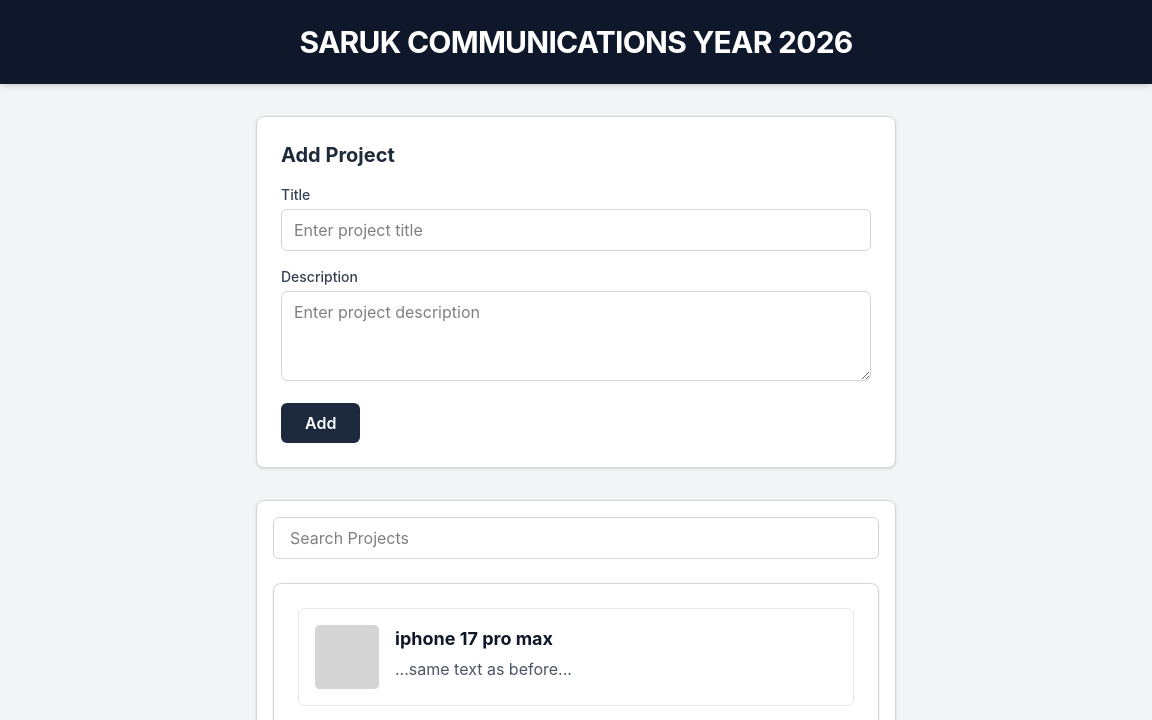
Test: Personal Project Showcase App › allows adding a new project
Type "New Portfolio Website" into the field labelled "Title". click: (576, 230)
box: [281, 209, 871, 251]
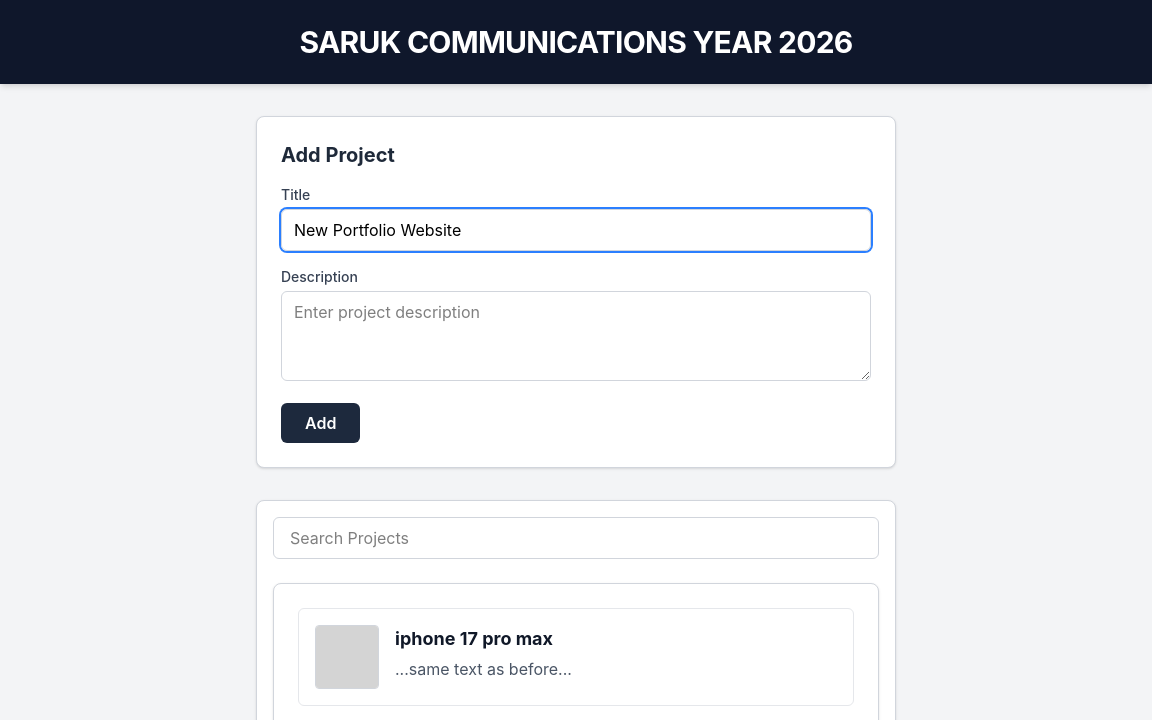
Type "Built with React and Tailwind." into the text box labelled "Description". click: (576, 336)
box: [281, 291, 871, 381]
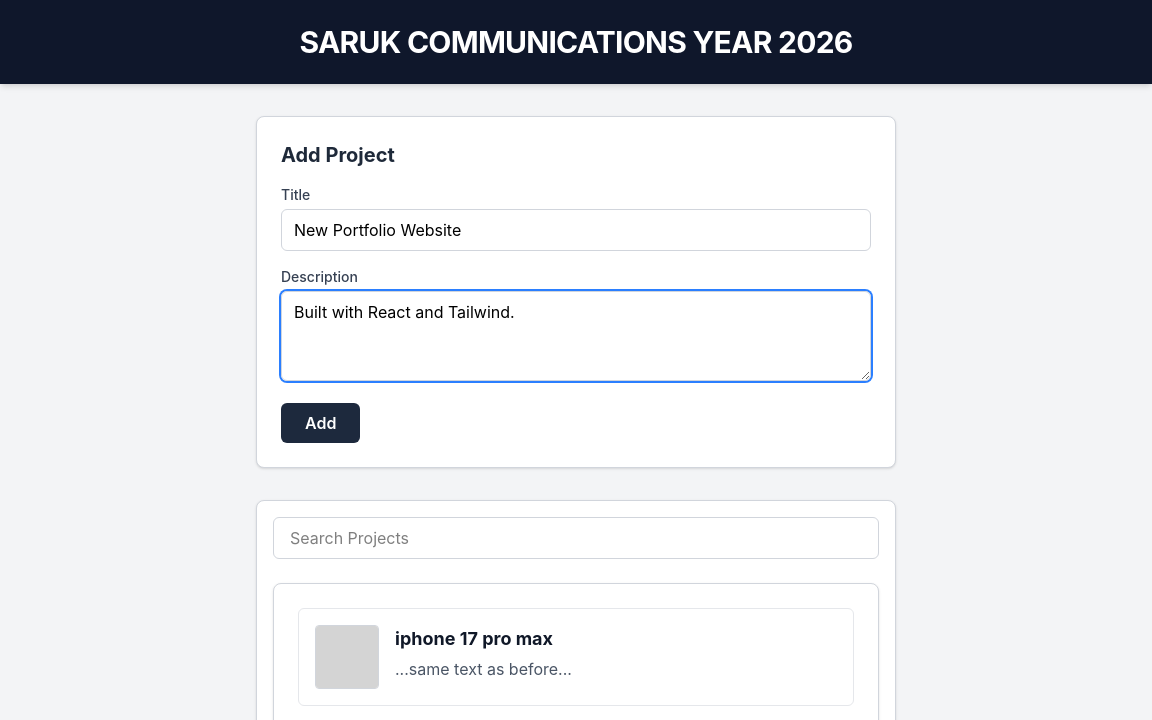
Click the button "Add". click: click(321, 423)
box: [281, 403, 360, 443]
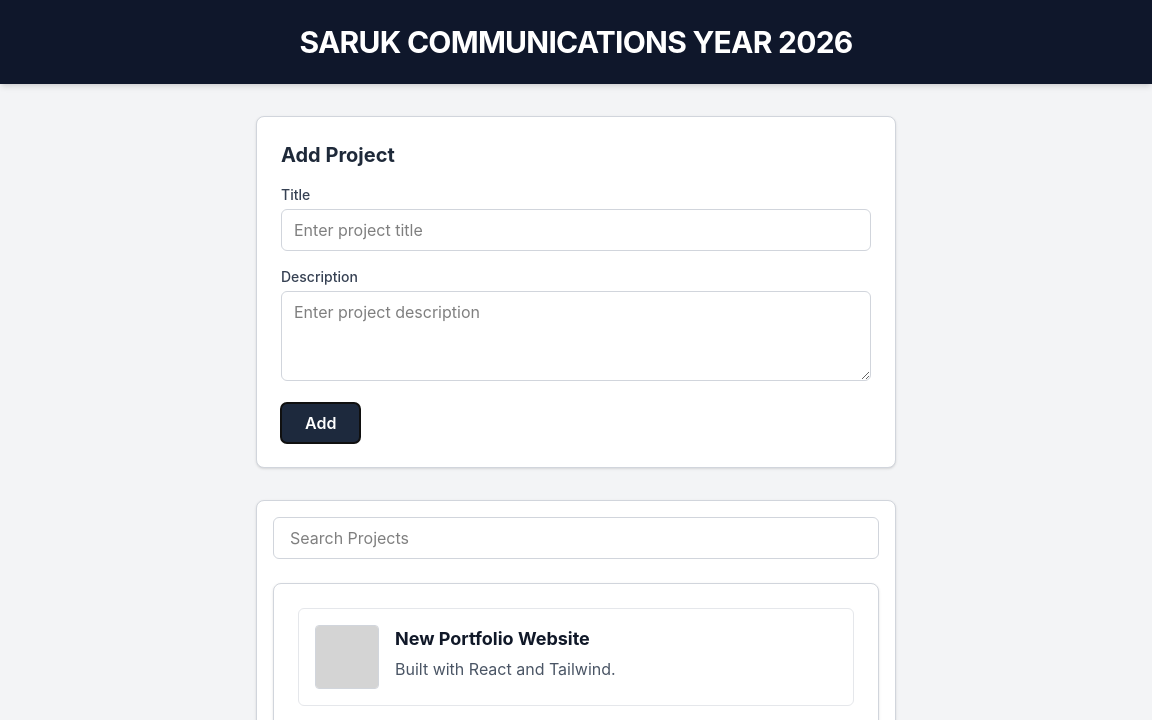
Now the heading "New Portfolio Website" is shown, box [395, 625, 616, 653]
Now the text "Built with React and Tailwind." is shown, box [395, 657, 616, 681]
